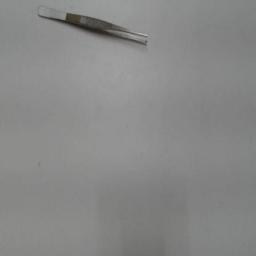Gillies Toothed Dissector: (36, 1, 152, 51)
